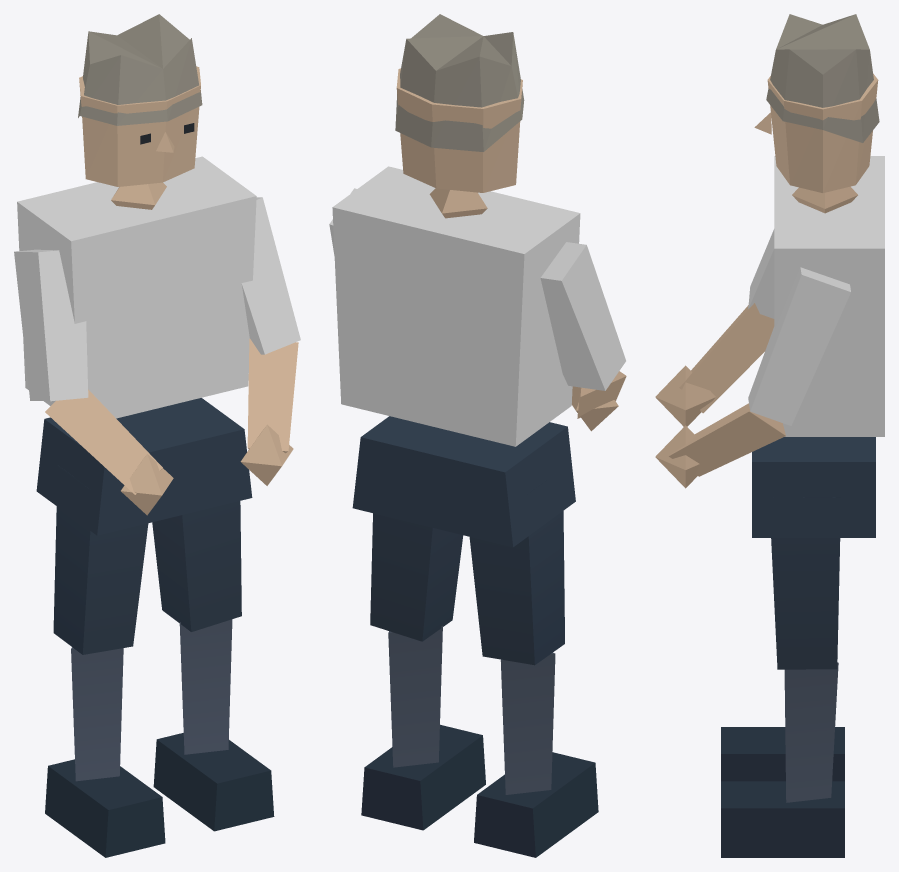
The model's file is fan-08.glb.
3 views of the same model, side by side, from view 1: azimuth 30°, elevation 25°; view 2: azimuth 150°, elevation 25°; view 3: azimuth 270°, elevation 25° (orthographic). The views are drawn at different scales.
Parts seen in each view (by area): view 1: fan-08; view 2: fan-08; view 3: fan-08.
Part boxes in pixels (<box>): fan-08: <box>14,14,300,857</box>; fan-08: <box>329,14,626,857</box>; fan-08: <box>655,14,884,857</box>.
Size of the model in its own units: 0.6767 by 1.95 by 0.519.
